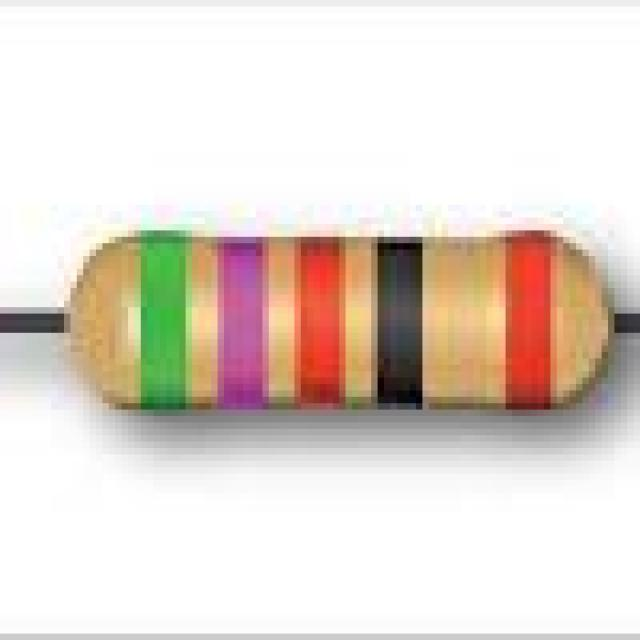capacitor: (70, 224, 614, 410)
